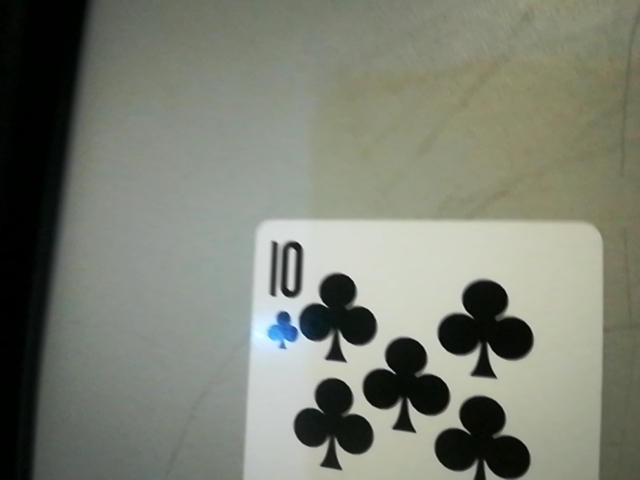mh 10: (253, 227, 308, 346)
